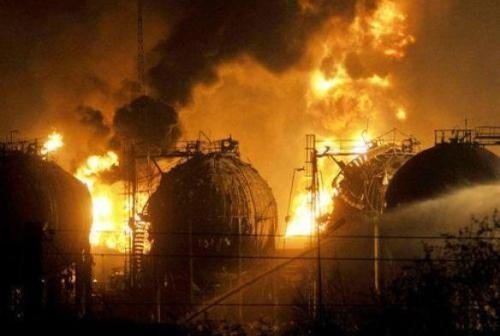fire: (291, 0, 417, 253), (36, 127, 150, 253), (286, 125, 392, 241)
